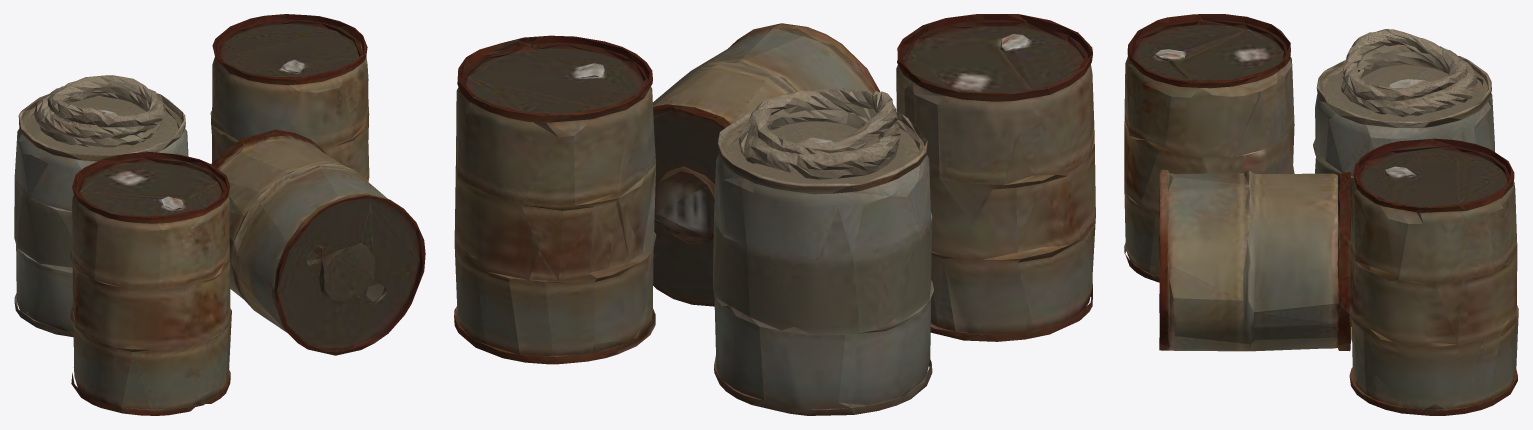
The model's file is deco_futs.glb.
3 views of the same model, side by side, from view 1: azimuth 30°, elevation 25°; view 2: azimuth 150°, elevation 25°; view 3: azimuth 270°, elevation 25° (orthographic). The views are drawn at different scales.
Size of the model in its own units: 1.9 by 1.02 by 1.61.
1 material, 1 textured.
